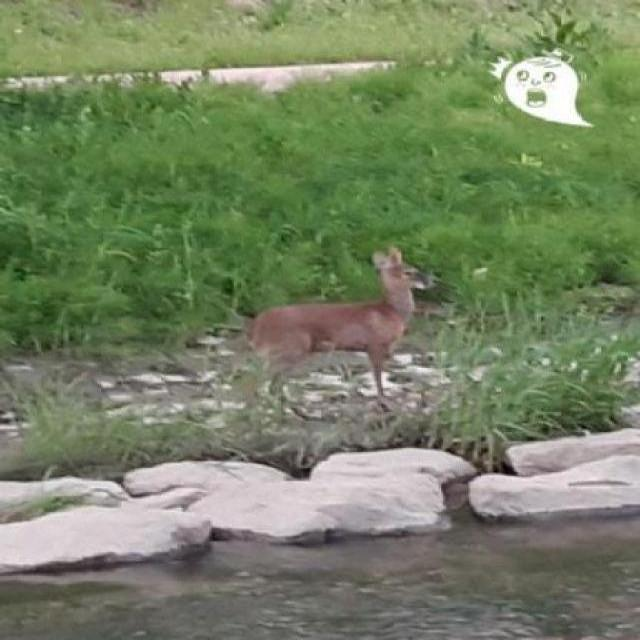deer: (244, 244, 456, 424)
